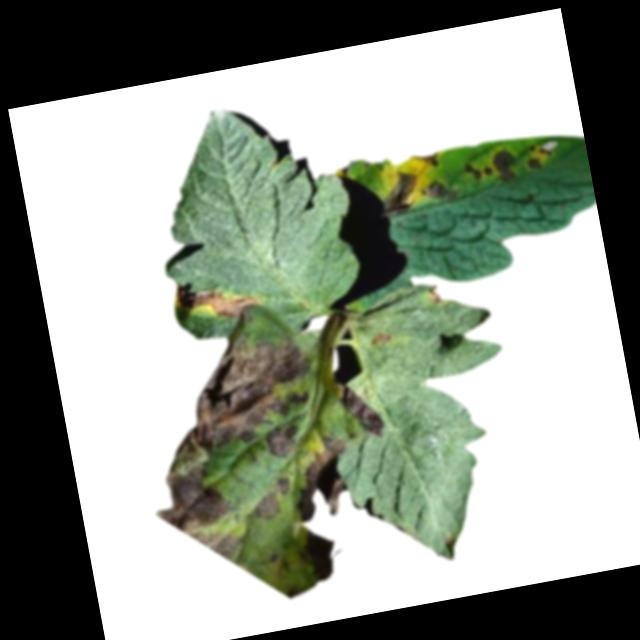Early_blight: (125, 320, 339, 570), (284, 433, 364, 528), (171, 266, 266, 327), (340, 376, 388, 442), (248, 472, 295, 524), (301, 524, 342, 583), (379, 170, 424, 219), (263, 423, 304, 464), (523, 136, 559, 173), (491, 145, 520, 182), (426, 176, 459, 204), (463, 158, 494, 180), (415, 146, 442, 169), (367, 329, 396, 350), (427, 280, 445, 307)
